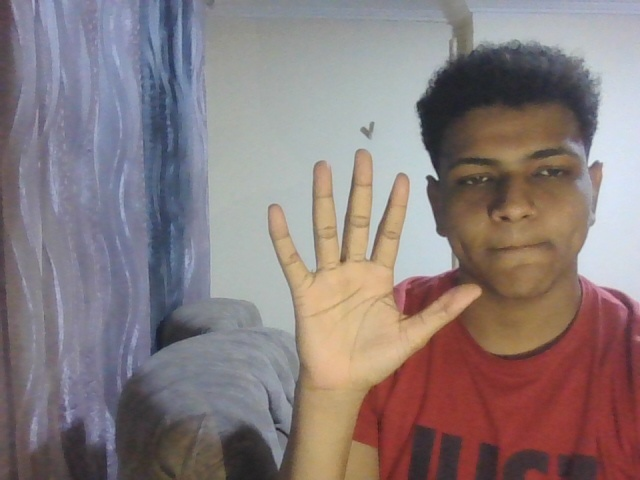Hello: (264, 145, 485, 391)
